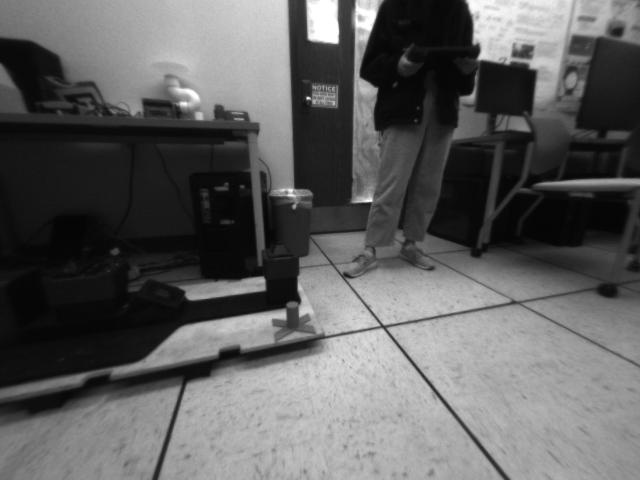x: (271, 299, 319, 341)
